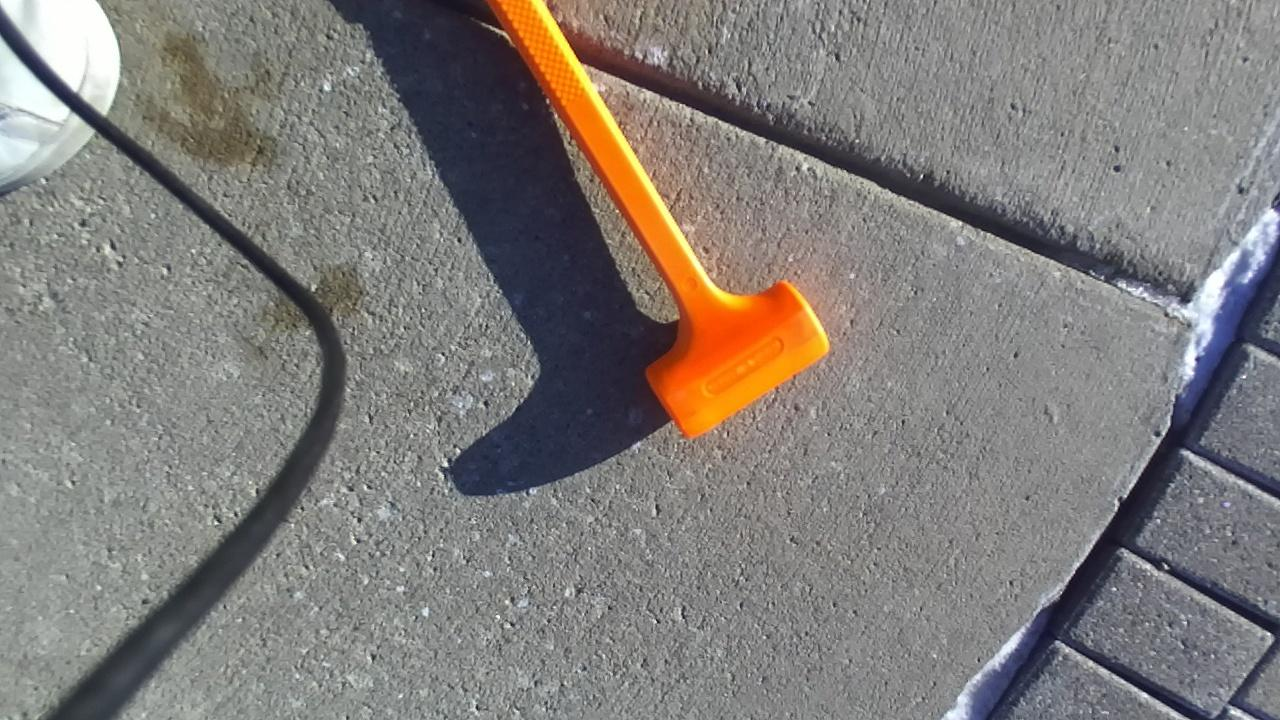mallet: (486, 0, 829, 436)
